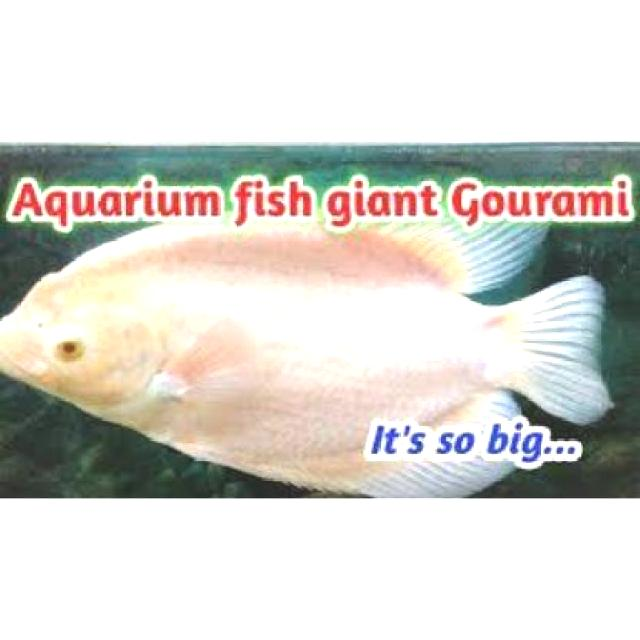gurame: (0, 221, 606, 487)
